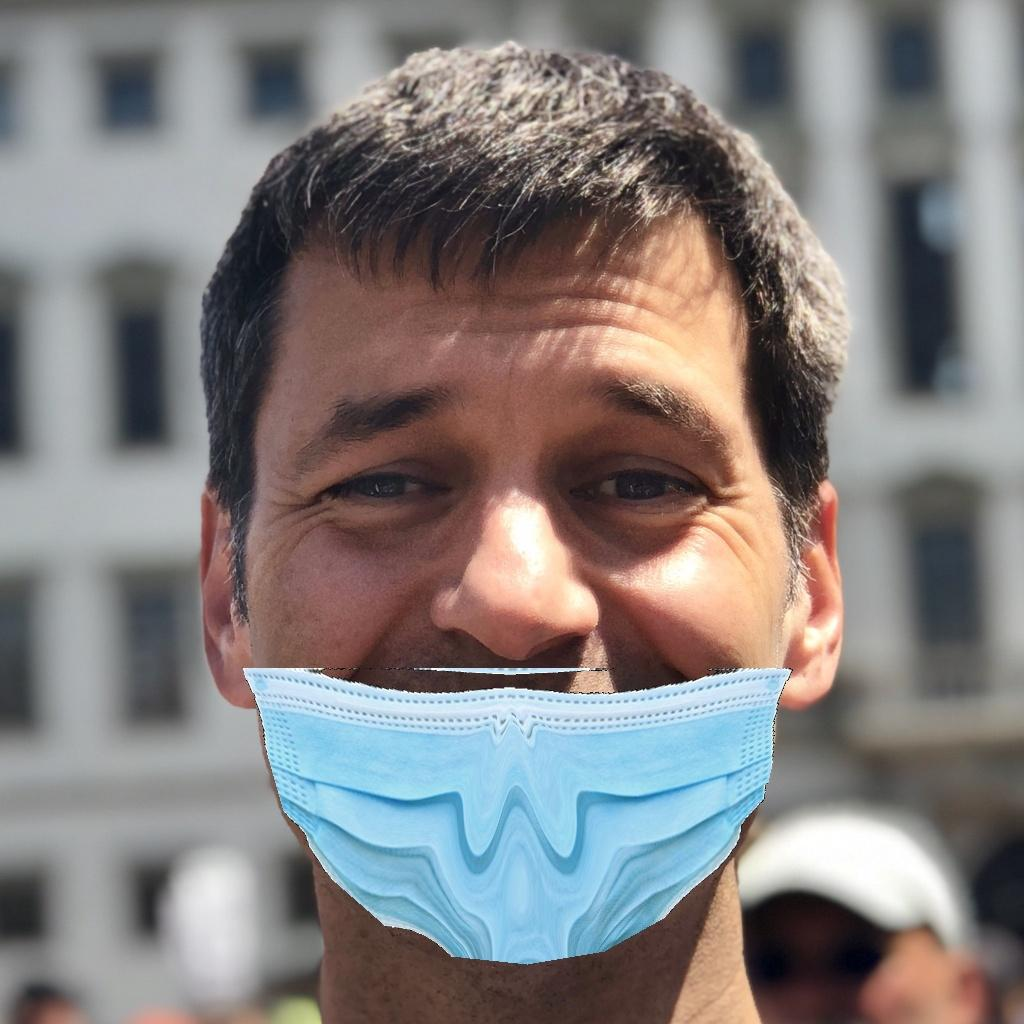Máscara Incorreta: (230, 301, 838, 963)
